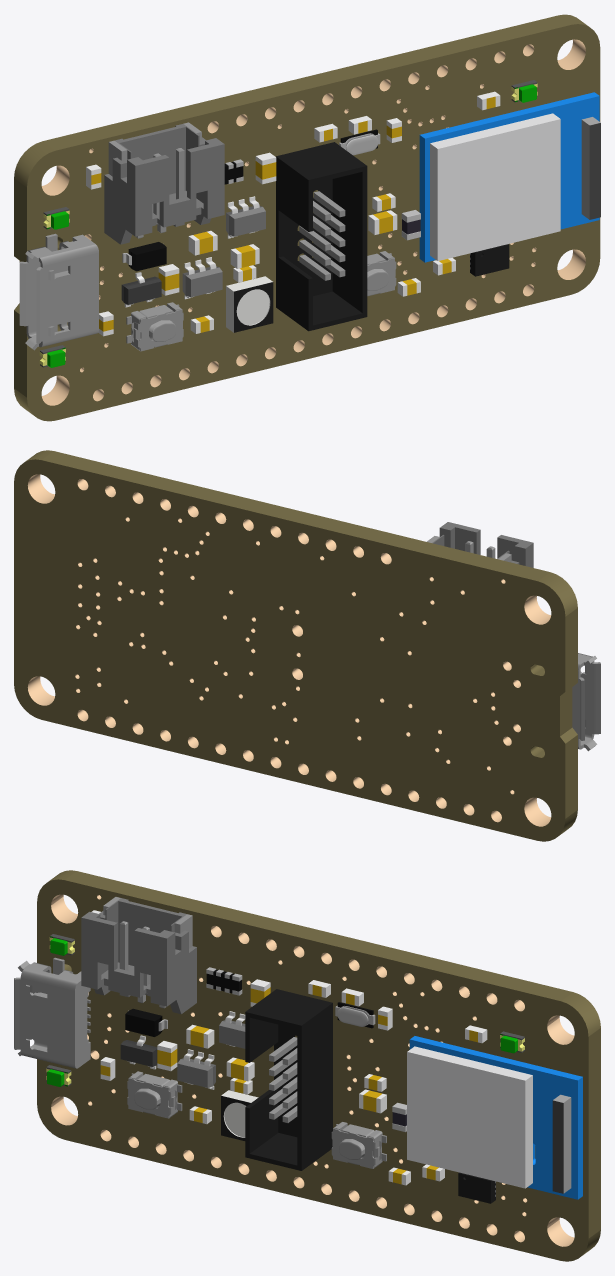
The model's file is adafruit-4062-nrf52840.glb.
3 renders of one model, top to bottom at view 1: azimuth 30°, elevation 25°; view 2: azimuth 150°, elevation 25°; view 3: azimuth 330°, elevation 25°, orthographic. The views are drawn at different scales.
Visible parts, largest first — view 1: body_13, body_20, body_7, body, body_5, body_18, body_3, body_2, body_6, body_19, body_14, body_22 (+4 smaller); view 2: body_13, body_3, body, body_5; view 3: body_13, body_20, body, body_7, body_5, body_18, body_3, body_2, body_6, body_14, body_22, body_4 (+4 smaller).
Boxes of the visible parts, bbox=[...] form: body_13: bbox=[14, 14, 600, 421]; body_20: bbox=[430, 113, 560, 260]; body_7: bbox=[234, 142, 509, 332]; body: bbox=[19, 122, 470, 351]; body_5: bbox=[104, 124, 265, 297]; body_18: bbox=[419, 92, 599, 262]; body_3: bbox=[41, 39, 585, 405]; body_2: bbox=[86, 91, 500, 336]; body_6: bbox=[91, 96, 495, 332]; body_19: bbox=[226, 276, 272, 332]; body_14: bbox=[128, 129, 377, 271]; body_22: bbox=[589, 123, 600, 219]; body_13: bbox=[14, 450, 577, 841]; body_3: bbox=[27, 474, 550, 826]; body: bbox=[426, 536, 600, 751]; body_5: bbox=[432, 522, 533, 567]; body_13: bbox=[37, 870, 600, 1261]; body_20: bbox=[407, 1046, 532, 1188]; body: bbox=[14, 897, 495, 1196]; body_7: bbox=[221, 989, 495, 1203]; body_5: bbox=[81, 898, 245, 1087]; body_18: bbox=[409, 1036, 582, 1199]; body_3: bbox=[51, 894, 574, 1246]; body_2: bbox=[91, 910, 487, 1185]; body_6: bbox=[100, 984, 477, 1184]; body_14: bbox=[125, 969, 373, 1036]; body_22: bbox=[552, 1100, 563, 1193]; body_4: bbox=[128, 967, 375, 1031].
Bounding box in the file's own units: 51.45 × 22.86 × 6.99.
